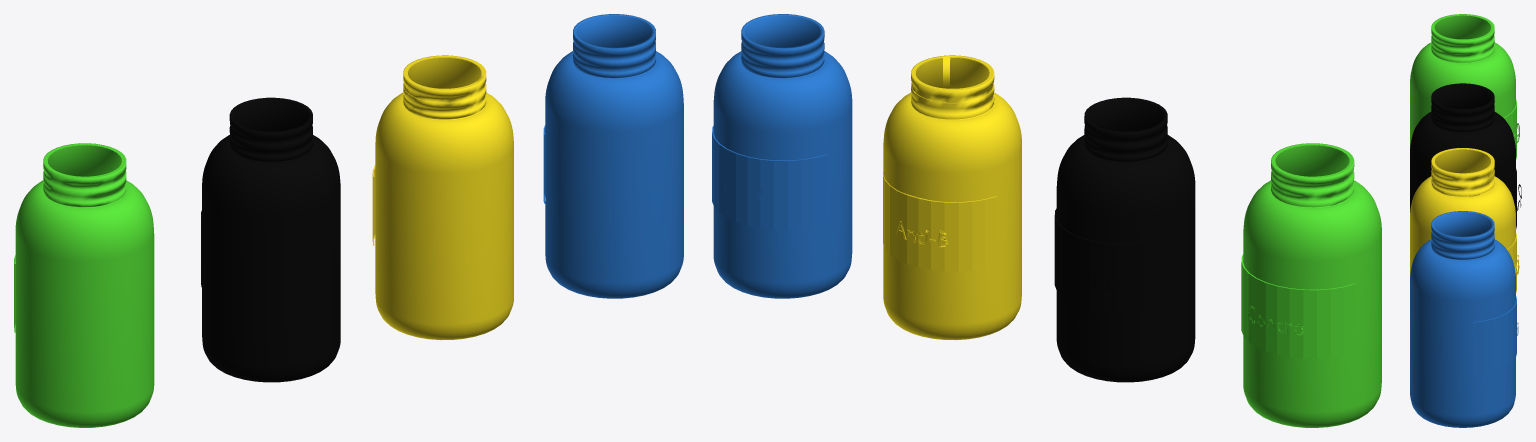
The model's file is 2tara lab1070.fbx.
3 renders of one model, left to right at view 1: azimuth 30°, elevation 25°; view 2: azimuth 150°, elevation 25°; view 3: azimuth 270°, elevation 25°, orthographic. The views are drawn at different scales.
Parts seen in each view (by area): view 1: Text.006, Text.008, Cylinder.157, Cylinder.169; view 2: Cylinder.169, Cylinder.157, Text.008, Text.006; view 3: Cylinder.157, Text.008, Cylinder.169, Text.006.
Part boxes in pixels (bbox=[...]): Text.006: bbox=[372, 55, 513, 340]; Text.008: bbox=[14, 143, 154, 427]; Cylinder.157: bbox=[543, 14, 683, 298]; Cylinder.169: bbox=[201, 97, 340, 382]; Cylinder.169: bbox=[1054, 97, 1195, 382]; Cylinder.157: bbox=[712, 14, 852, 298]; Text.008: bbox=[1241, 143, 1381, 427]; Text.006: bbox=[883, 55, 1021, 340]; Cylinder.157: bbox=[1410, 211, 1518, 427]; Text.008: bbox=[1410, 14, 1519, 159]; Cylinder.169: bbox=[1410, 83, 1521, 228]; Text.006: bbox=[1410, 148, 1519, 292].
Size of the model in its own units: 62.54 by 22.32 by 12.23.
